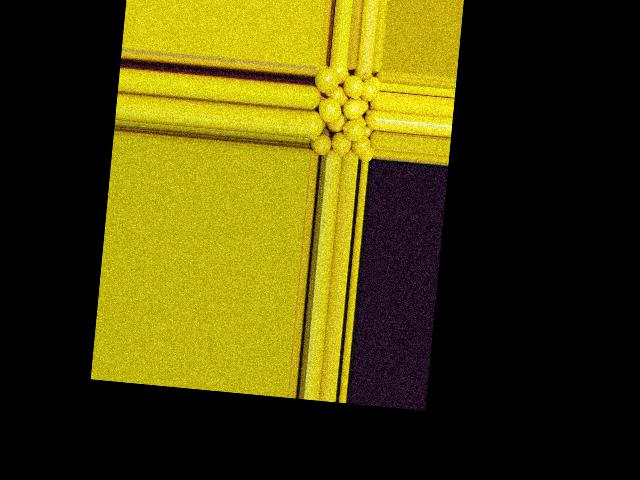lemon: (307, 111, 324, 143)
